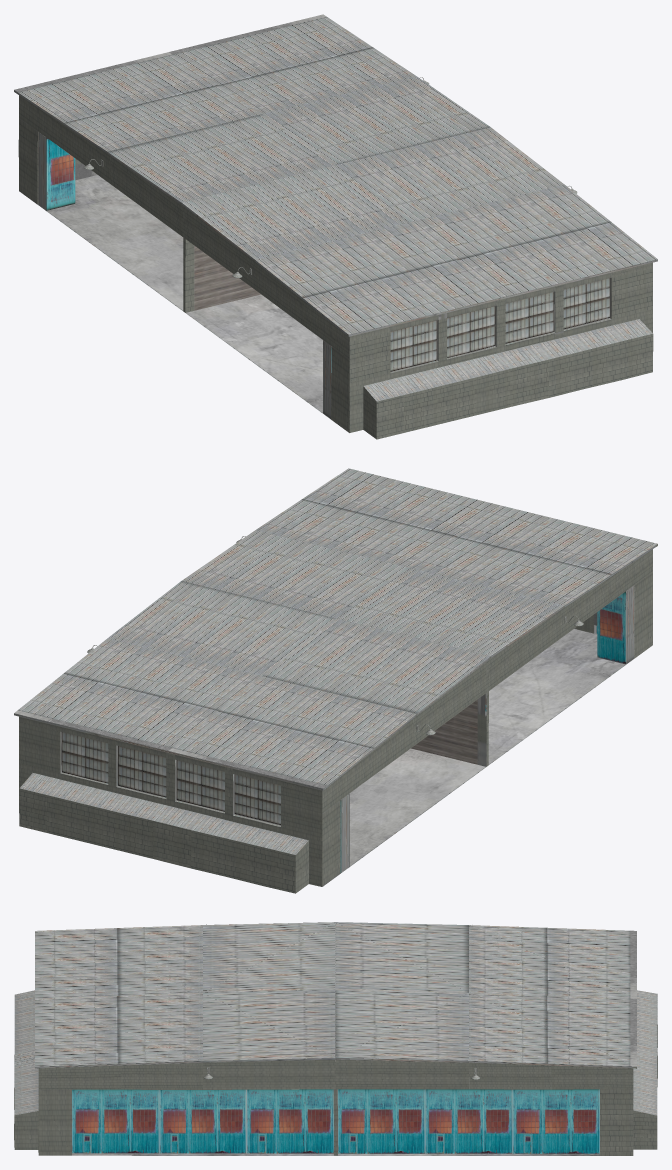
The model's file is BCATP_hangar_Double_FoldingDoors.glb.
3 views of the same model, one above another, from view 1: azimuth 30°, elevation 25°; view 2: azimuth 150°, elevation 25°; view 3: azimuth 270°, elevation 25° (orthographic). The views are drawn at different scales.
Parts seen in each view (by area): view 1: Double_Hangar; view 2: Double_Hangar; view 3: Double_Hangar.
Part boxes in pixels (x1,y1,x2,y2): Double_Hangar: (14, 14, 657, 439); Double_Hangar: (14, 468, 657, 893); Double_Hangar: (14, 922, 657, 1155).
Bounding box in the file's own units: 48.02 × 14.68 × 86.21.
Materials: 1 (1 with a texture image).
